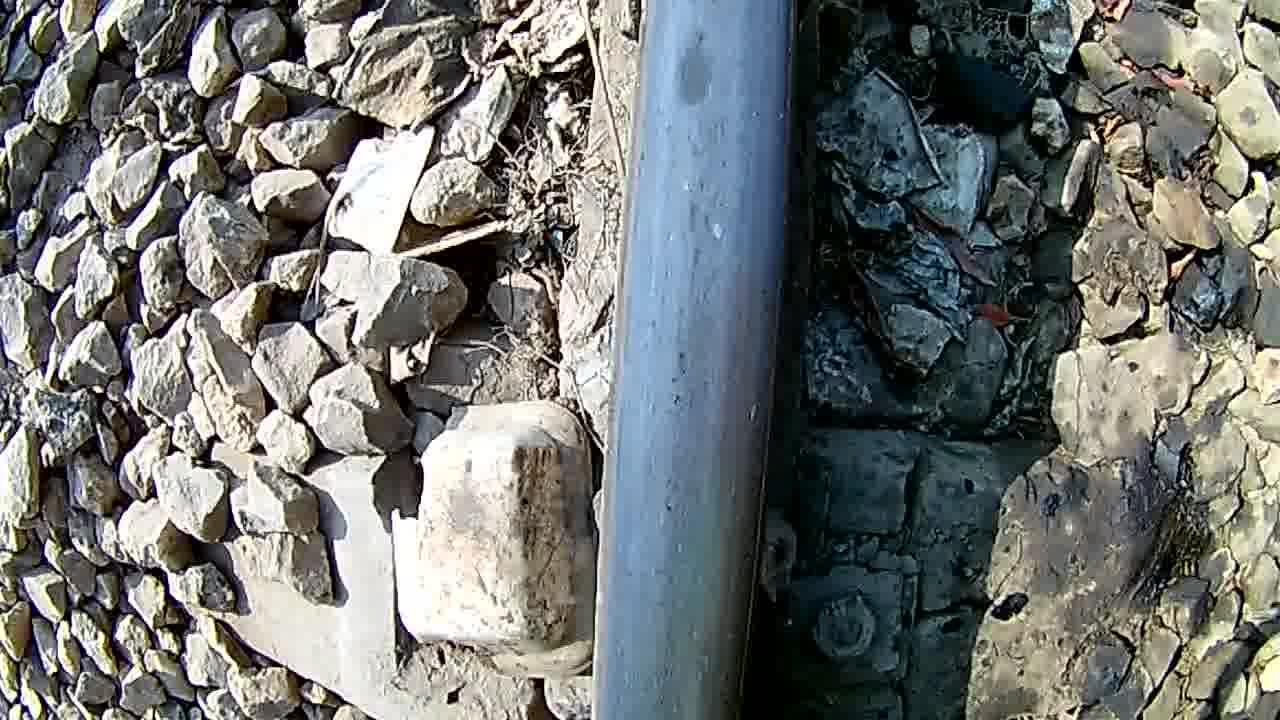bolt_missing: (642, 0, 800, 237)
